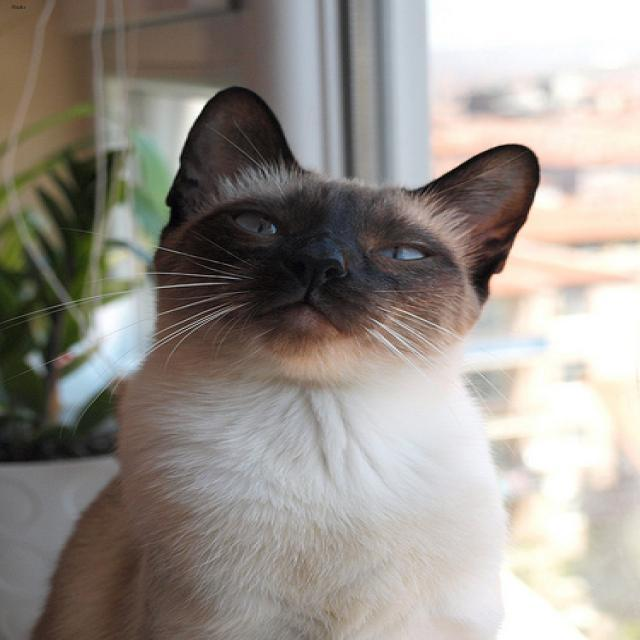Siamese: (149, 83, 537, 388)
